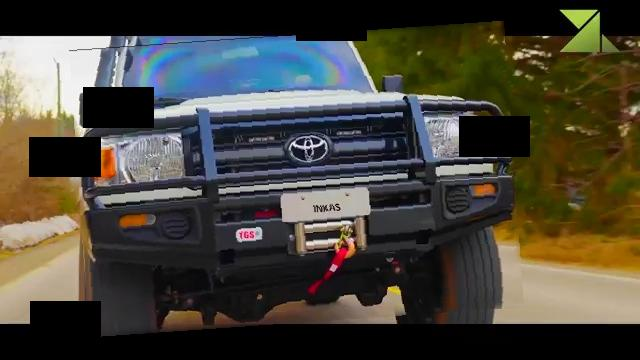MIL_HMMWV: (74, 27, 520, 330)
